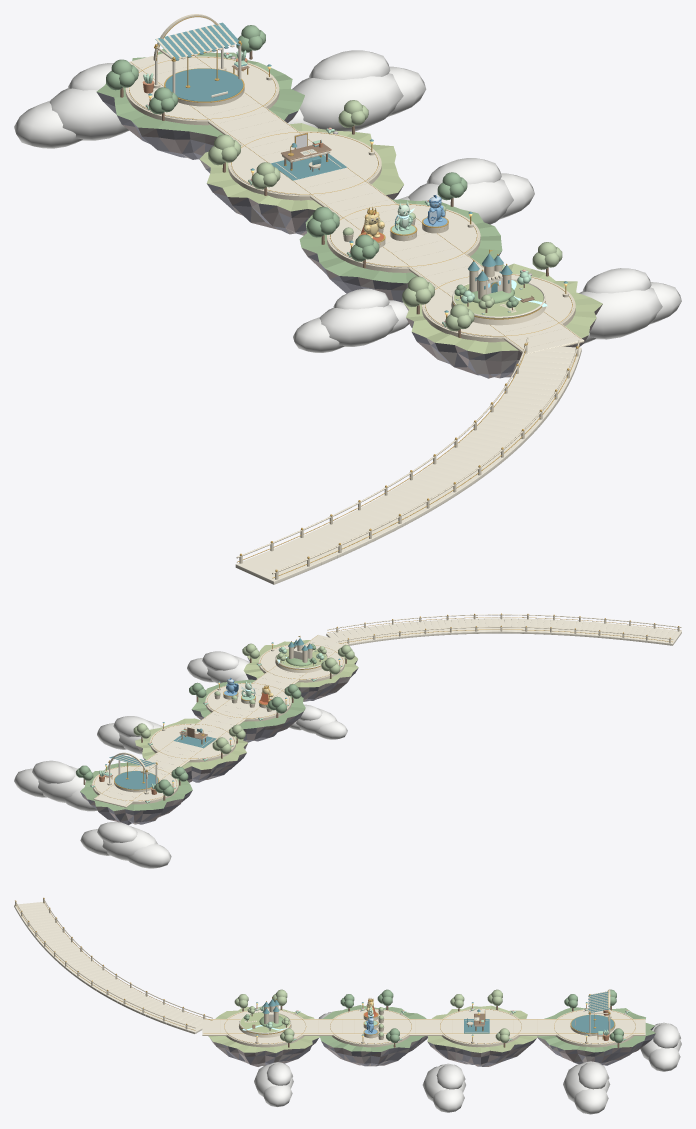
The model's file is courtyard.glb.
The picture shows the model from 3 angles, top to bottom: view 1: azimuth 30°, elevation 25°; view 2: azimuth 150°, elevation 25°; view 3: azimuth 270°, elevation 25°; orthographic projection. The views are drawn at different scales.
Visible parts, largest first — view 1: Courtyard_CarvedCream, Courtyard_CloudIvory, Courtyard_SanctuaryIvory, Courtyard_IslandStone, Courtyard_MeadowSunlit, Courtyard_MeadowSage, Courtyard_SageBlueRoof, Courtyard_TreeMint, Courtyard_TreeSage, Courtyard_WarmGold, Courtyard_WarmWood, Courtyard_CourtyardMint; view 2: Courtyard_CarvedCream, Courtyard_CloudIvory, Courtyard_SanctuaryIvory, Courtyard_IslandStone, Courtyard_MeadowSage, Courtyard_MeadowSunlit, Courtyard_WarmGold, Courtyard_TreeMint, Courtyard_SageBlueRoof, Courtyard_TreeSage; view 3: Courtyard_CarvedCream, Courtyard_CloudIvory, Courtyard_IslandStone, Courtyard_SanctuaryIvory, Courtyard_MeadowSunlit, Courtyard_MeadowSage, Courtyard_WarmGold, Courtyard_SageBlueRoof, Courtyard_TreeMint, Courtyard_TreeSage.
Boxes of the visible parts, bbox=[...] form: Courtyard_CarvedCream: bbox=[128, 45, 583, 584]; Courtyard_CloudIvory: bbox=[14, 50, 681, 352]; Courtyard_SanctuaryIvory: bbox=[125, 14, 584, 579]; Courtyard_IslandStone: bbox=[96, 92, 602, 378]; Courtyard_MeadowSunlit: bbox=[199, 123, 602, 353]; Courtyard_MeadowSage: bbox=[96, 48, 514, 303]; Courtyard_SageBlueRoof: bbox=[148, 22, 567, 312]; Courtyard_TreeMint: bbox=[208, 100, 562, 331]; Courtyard_TreeSage: bbox=[106, 25, 518, 307]; Courtyard_WarmGold: bbox=[129, 16, 580, 578]; Courtyard_WarmWood: bbox=[120, 50, 548, 337]; Courtyard_CourtyardMint: bbox=[143, 50, 531, 326]; Courtyard_CarvedCream: bbox=[93, 618, 681, 806]; Courtyard_CloudIvory: bbox=[14, 651, 347, 868]; Courtyard_SanctuaryIvory: bbox=[92, 614, 681, 807]; Courtyard_IslandStone: bbox=[80, 657, 358, 824]; Courtyard_MeadowSage: bbox=[80, 656, 312, 810]; Courtyard_MeadowSunlit: bbox=[135, 640, 358, 769]; Courtyard_WarmGold: bbox=[94, 613, 681, 804]; Courtyard_TreeMint: bbox=[133, 643, 354, 753]; Courtyard_SageBlueRoof: bbox=[104, 638, 340, 789]; Courtyard_TreeSage: bbox=[76, 643, 316, 796]; Courtyard_CarvedCream: bbox=[14, 902, 645, 1044]; Courtyard_CloudIvory: bbox=[254, 1011, 681, 1114]; Courtyard_IslandStone: bbox=[208, 1026, 655, 1066]; Courtyard_SanctuaryIvory: bbox=[15, 897, 645, 1047]; Courtyard_MeadowSunlit: bbox=[209, 1005, 537, 1052]; Courtyard_MeadowSage: bbox=[259, 1005, 655, 1052]; Courtyard_WarmGold: bbox=[15, 898, 644, 1043]; Courtyard_SageBlueRoof: bbox=[256, 991, 614, 1035]; Courtyard_TreeMint: bbox=[234, 989, 509, 1042]; Courtyard_TreeSage: bbox=[243, 989, 623, 1042].
Size of the model in its own units: 107 by 21.73 by 164.
